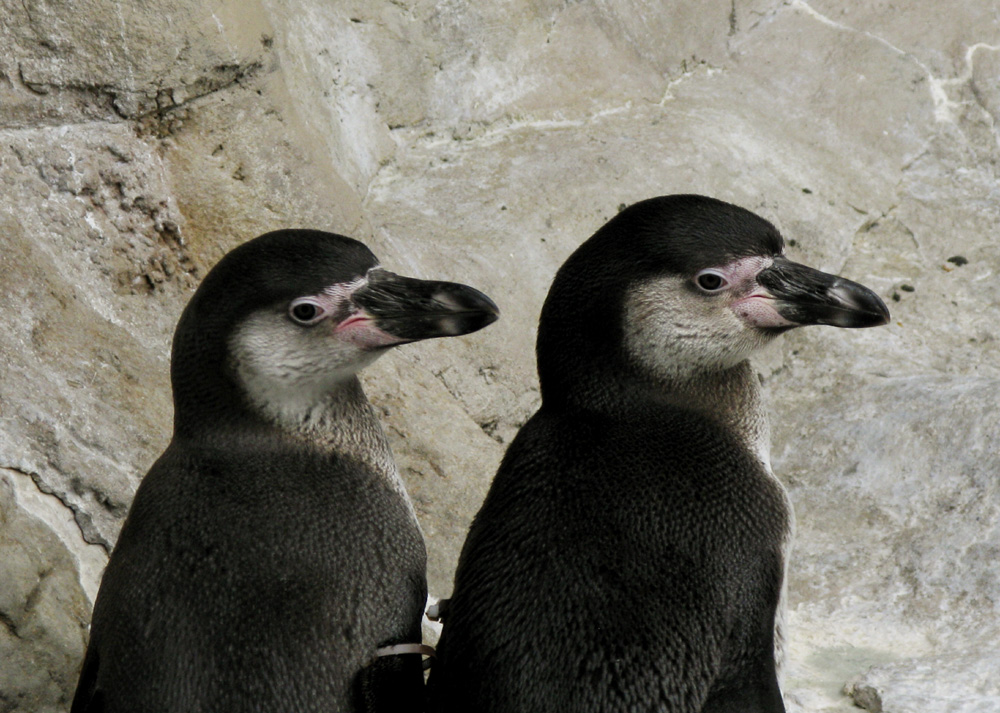penguin: (436, 190, 883, 713), (67, 229, 502, 713)
